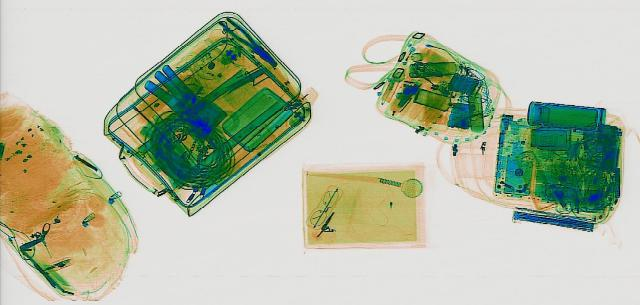Pliers: (210, 15, 284, 67)
